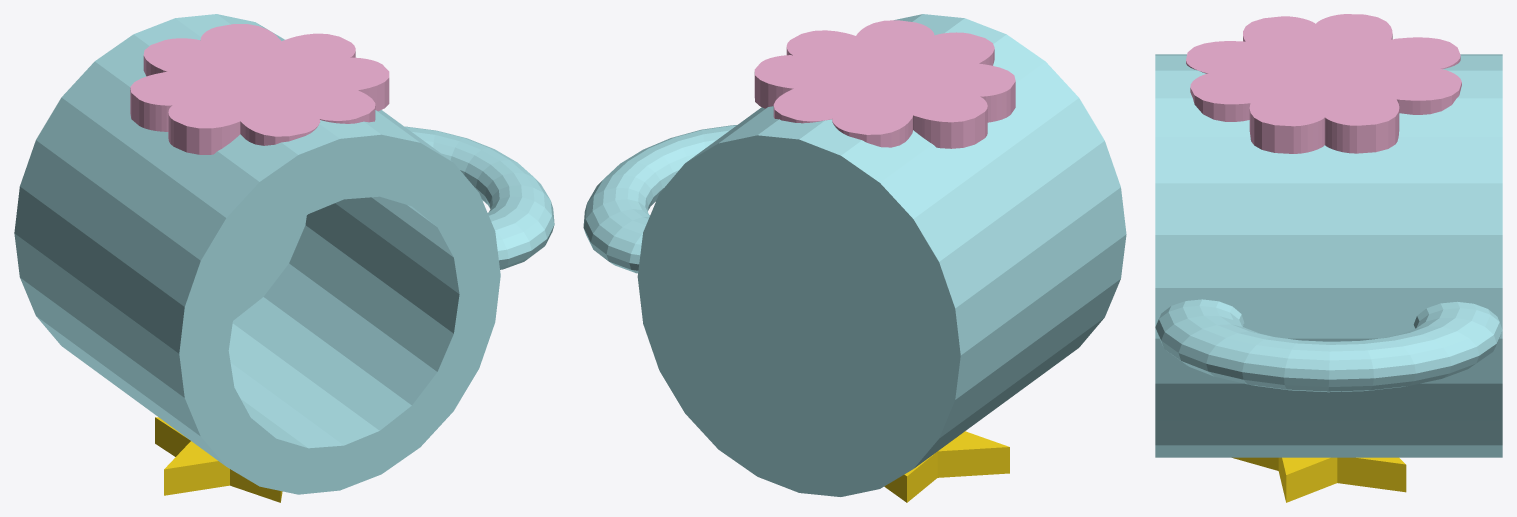
The model's file is tinker.obj.
3 views of the same model, side by side, from view 1: azimuth 30°, elevation 25°; view 2: azimuth 150°, elevation 25°; view 3: azimuth 270°, elevation 25° (orthographic). The views are drawn at different scales.
Visible parts, largest first — view 1: group_0_11593967, group_0_15708628, group_0_16768282; view 2: group_0_11593967, group_0_15708628, group_0_16768282; view 3: group_0_11593967, group_0_15708628, group_0_16768282.
Boxes of the visible parts, x1,y1,x2,y2 form: group_0_11593967: [14, 14, 554, 494]; group_0_15708628: [130, 24, 389, 154]; group_0_16768282: [155, 417, 282, 502]; group_0_11593967: [583, 14, 1126, 496]; group_0_15708628: [754, 20, 1015, 148]; group_0_16768282: [884, 431, 1009, 502]; group_0_11593967: [1155, 54, 1502, 457]; group_0_15708628: [1186, 14, 1461, 153]; group_0_16768282: [1232, 457, 1406, 502].
Bounding box in the file's own units: 51 × 43 × 34.
